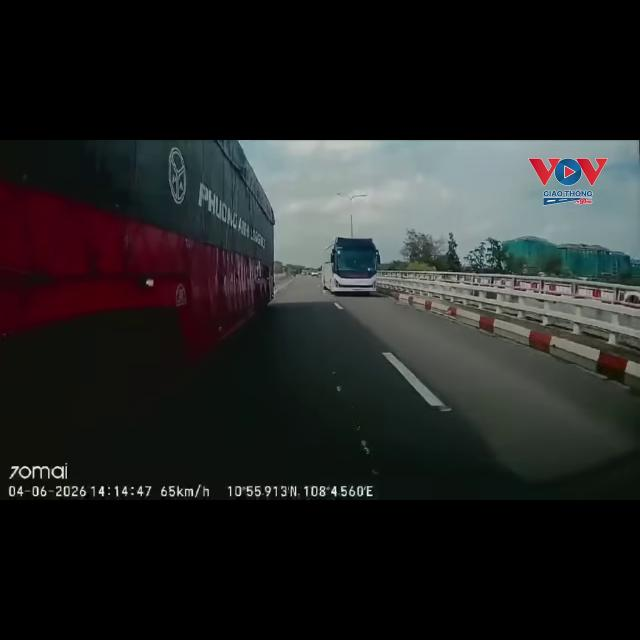bus: (322, 246, 383, 296)
truck: (0, 140, 274, 446)
